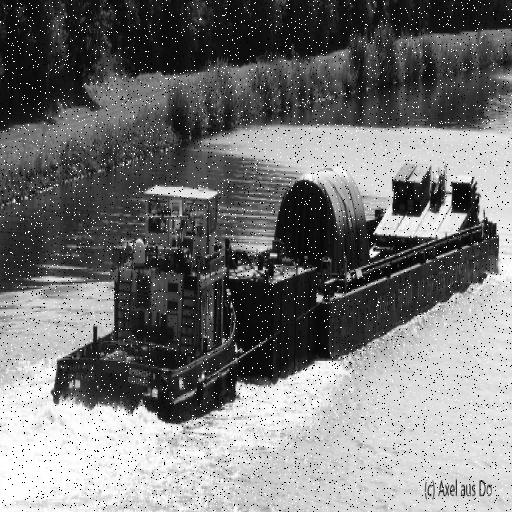tugboat: (47, 178, 244, 440)
